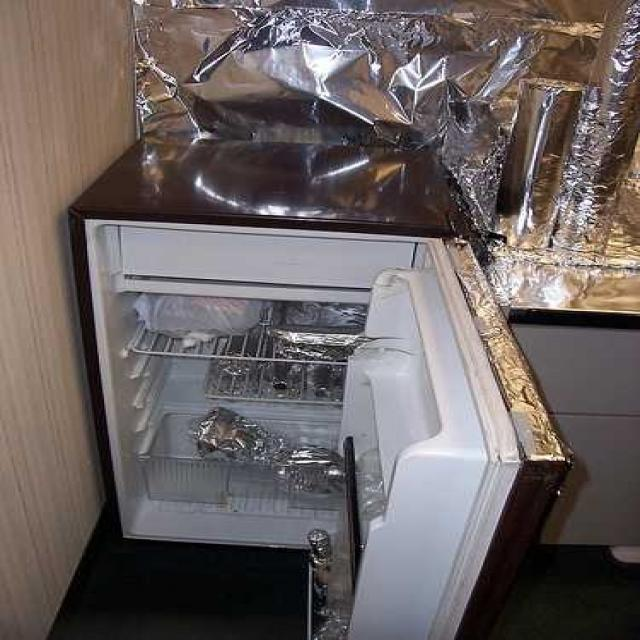refrigerator: (73, 209, 440, 550)
